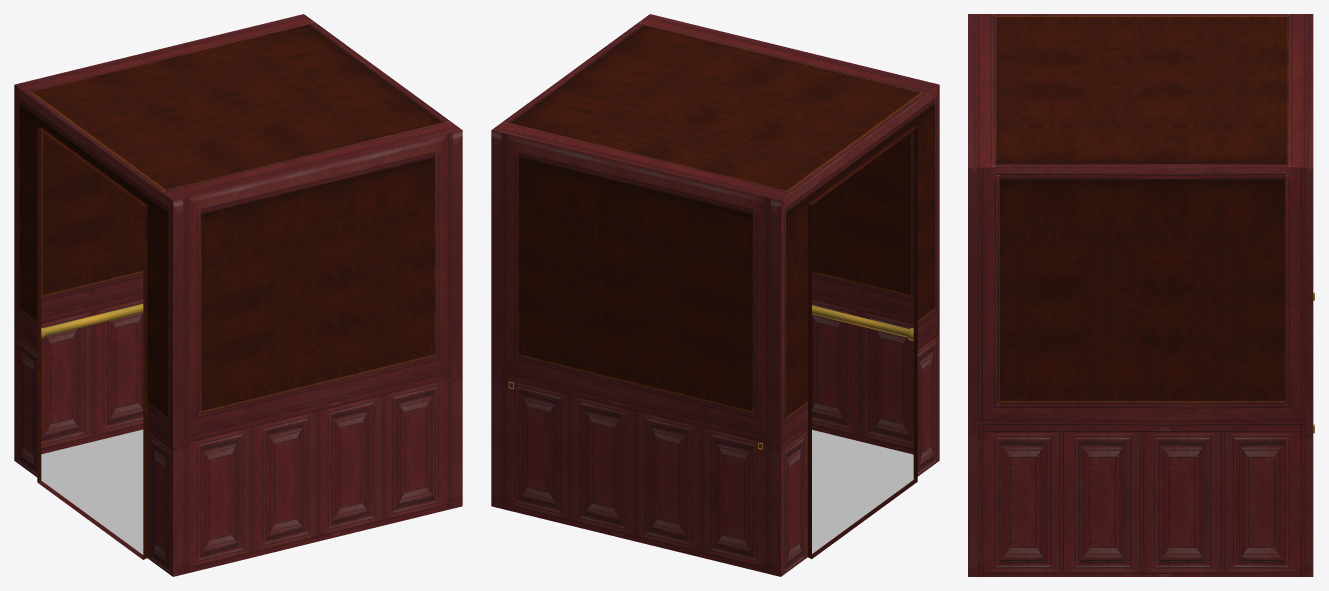
The model's file is Elev.fbx.
3 views of the same model, side by side, from view 1: azimuth 30°, elevation 25°; view 2: azimuth 150°, elevation 25°; view 3: azimuth 270°, elevation 25° (orthographic). The views are drawn at different scales.
Parts seen in each view (by area): view 1: Elev; view 2: Elev; view 3: Elev.
Part boxes in pixels (x1=…): Elev: x1=14, y1=14, x2=462, y2=576; Elev: x1=491, y1=14, x2=939, y2=576; Elev: x1=968, y1=14, x2=1314, y2=576.
Size of the model in its own units: 170 by 209 by 160.
